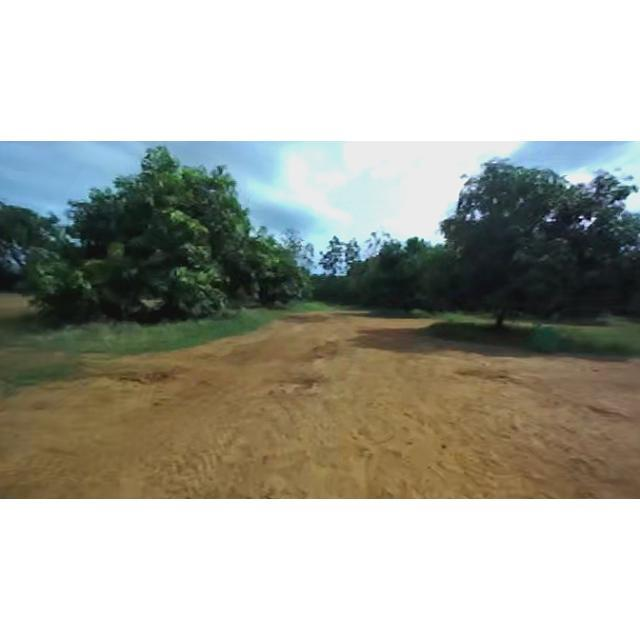direk: (27, 144, 300, 326), (432, 146, 638, 342), (360, 224, 448, 316), (323, 225, 359, 298), (359, 230, 396, 292), (278, 223, 300, 299)
